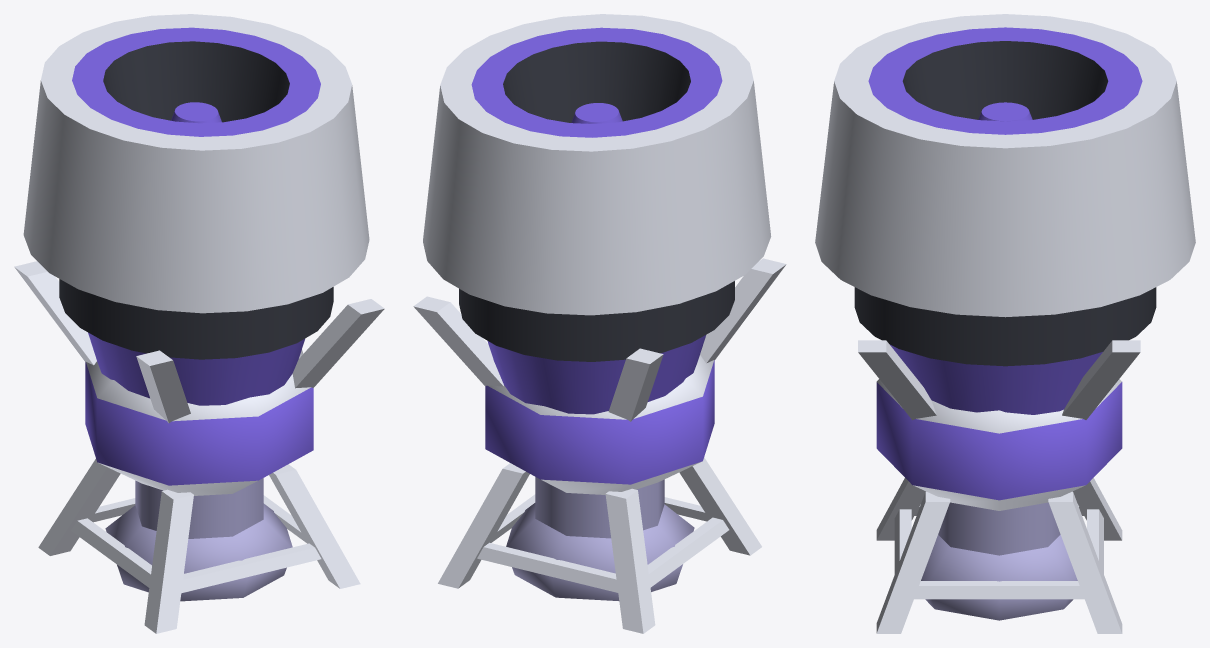
Rendered from truc_pour_test.fbx.
The picture shows the model from 3 angles, left to right: view 1: azimuth 30°, elevation 25°; view 2: azimuth 150°, elevation 25°; view 3: azimuth 270°, elevation 25°; orthographic projection. The views are drawn at different scales.
Parts seen in each view (by area): view 1: mergedBlocks; view 2: mergedBlocks; view 3: mergedBlocks.
Boxes of the visible parts, box(x1,y1,x2,y2) form: mergedBlocks: box(14, 14, 384, 633); mergedBlocks: box(413, 14, 786, 633); mergedBlocks: box(815, 14, 1195, 633).
Size of the model in its own units: 14.38 by 22.5 by 15.5.
